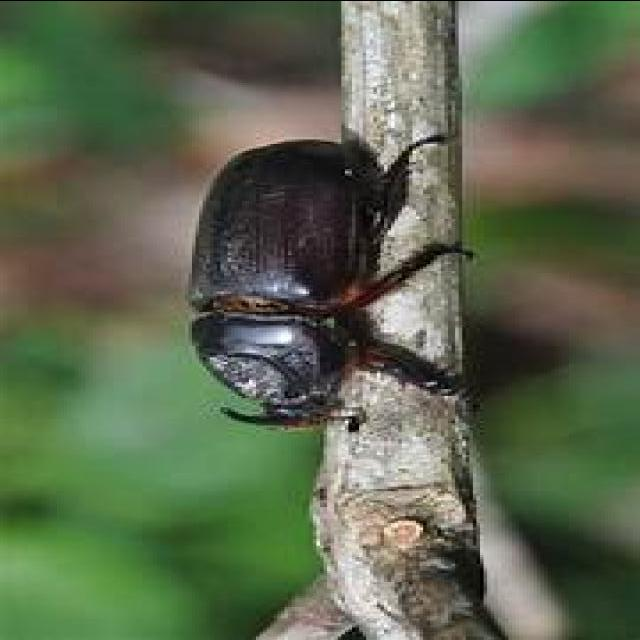Rhino-beetle: (172, 124, 466, 444)
